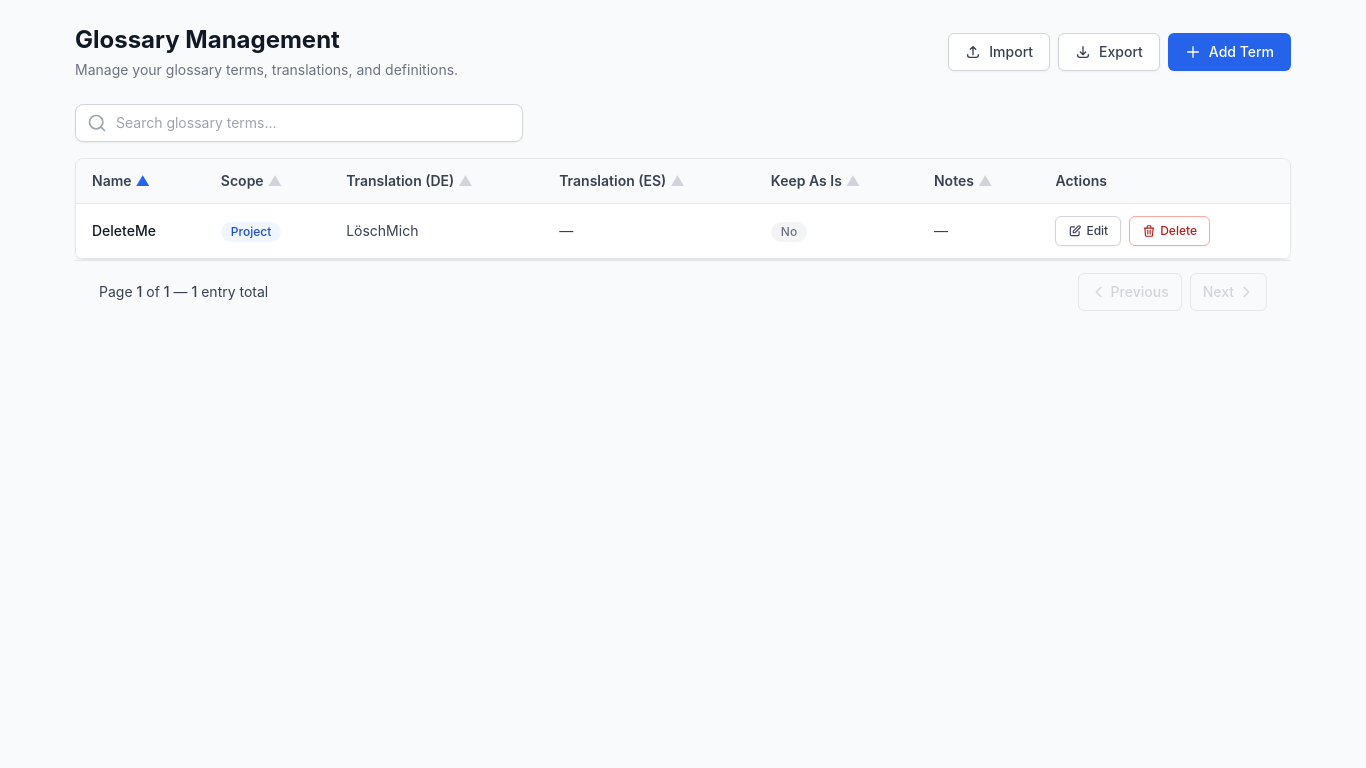
App › deleting a term › cancels deletion and keeps the term
Expected: the text "DeleteMe" is shown, [76,204,205,258]
Step 1. Click the button with aria-label "delete term deleteme" → coordinates (1170, 231), box [1129,216,1210,246]
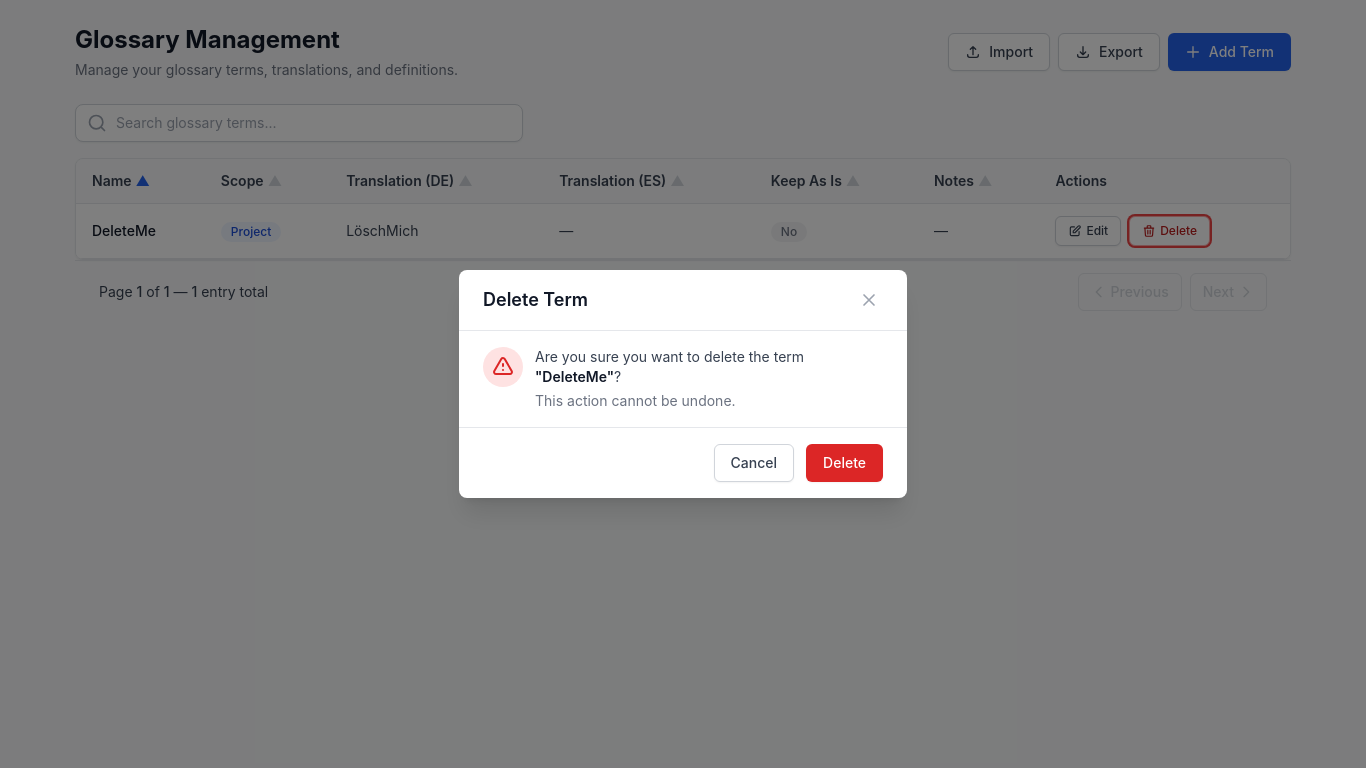
Result: the heading "Delete Term" is shown at [483,286,588,314]
Step 2. Click the button "Cancel" → coordinates (754, 463), box [714,444,794,482]
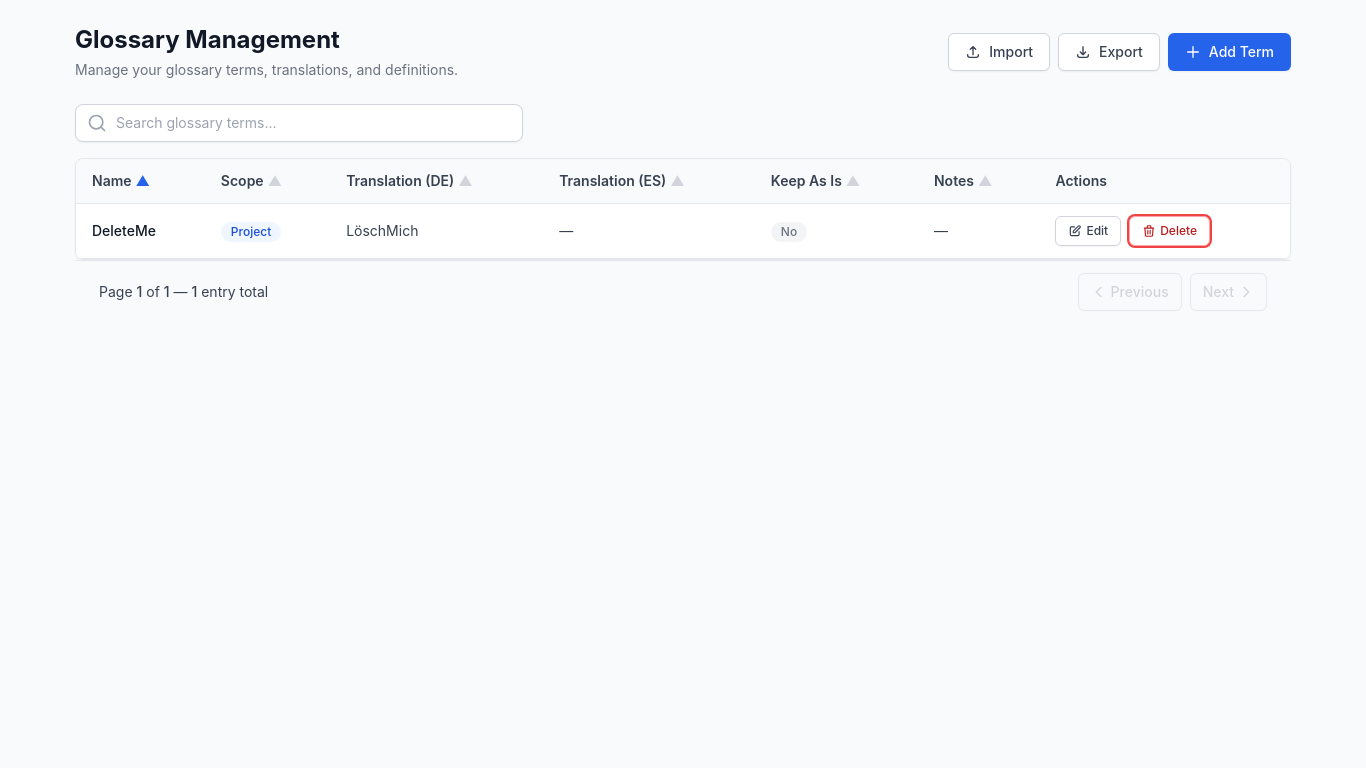
Expected: the text "DeleteMe" is shown, [76,204,205,258]
Result: the heading "Delete Term" is gone
